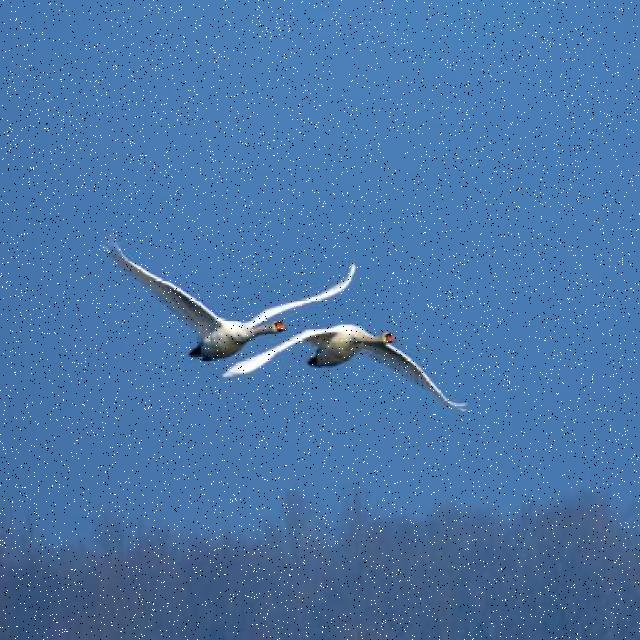bird: (108, 238, 358, 366), (224, 326, 466, 422)
